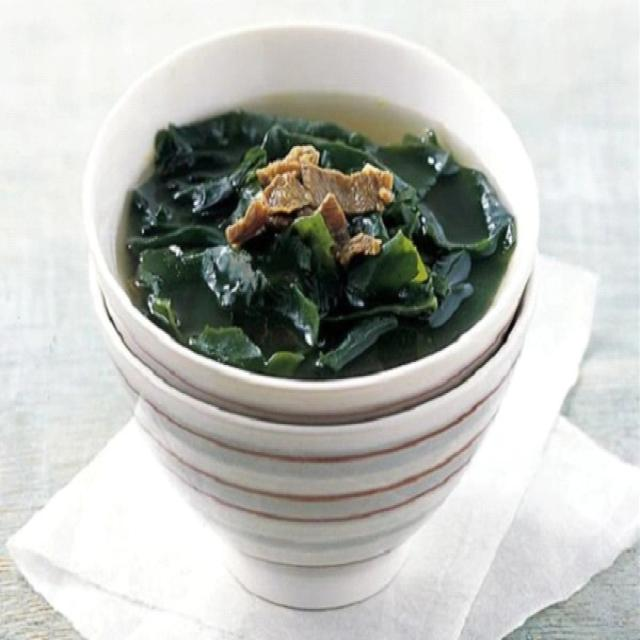canh rong bien: (125, 110, 515, 379)
